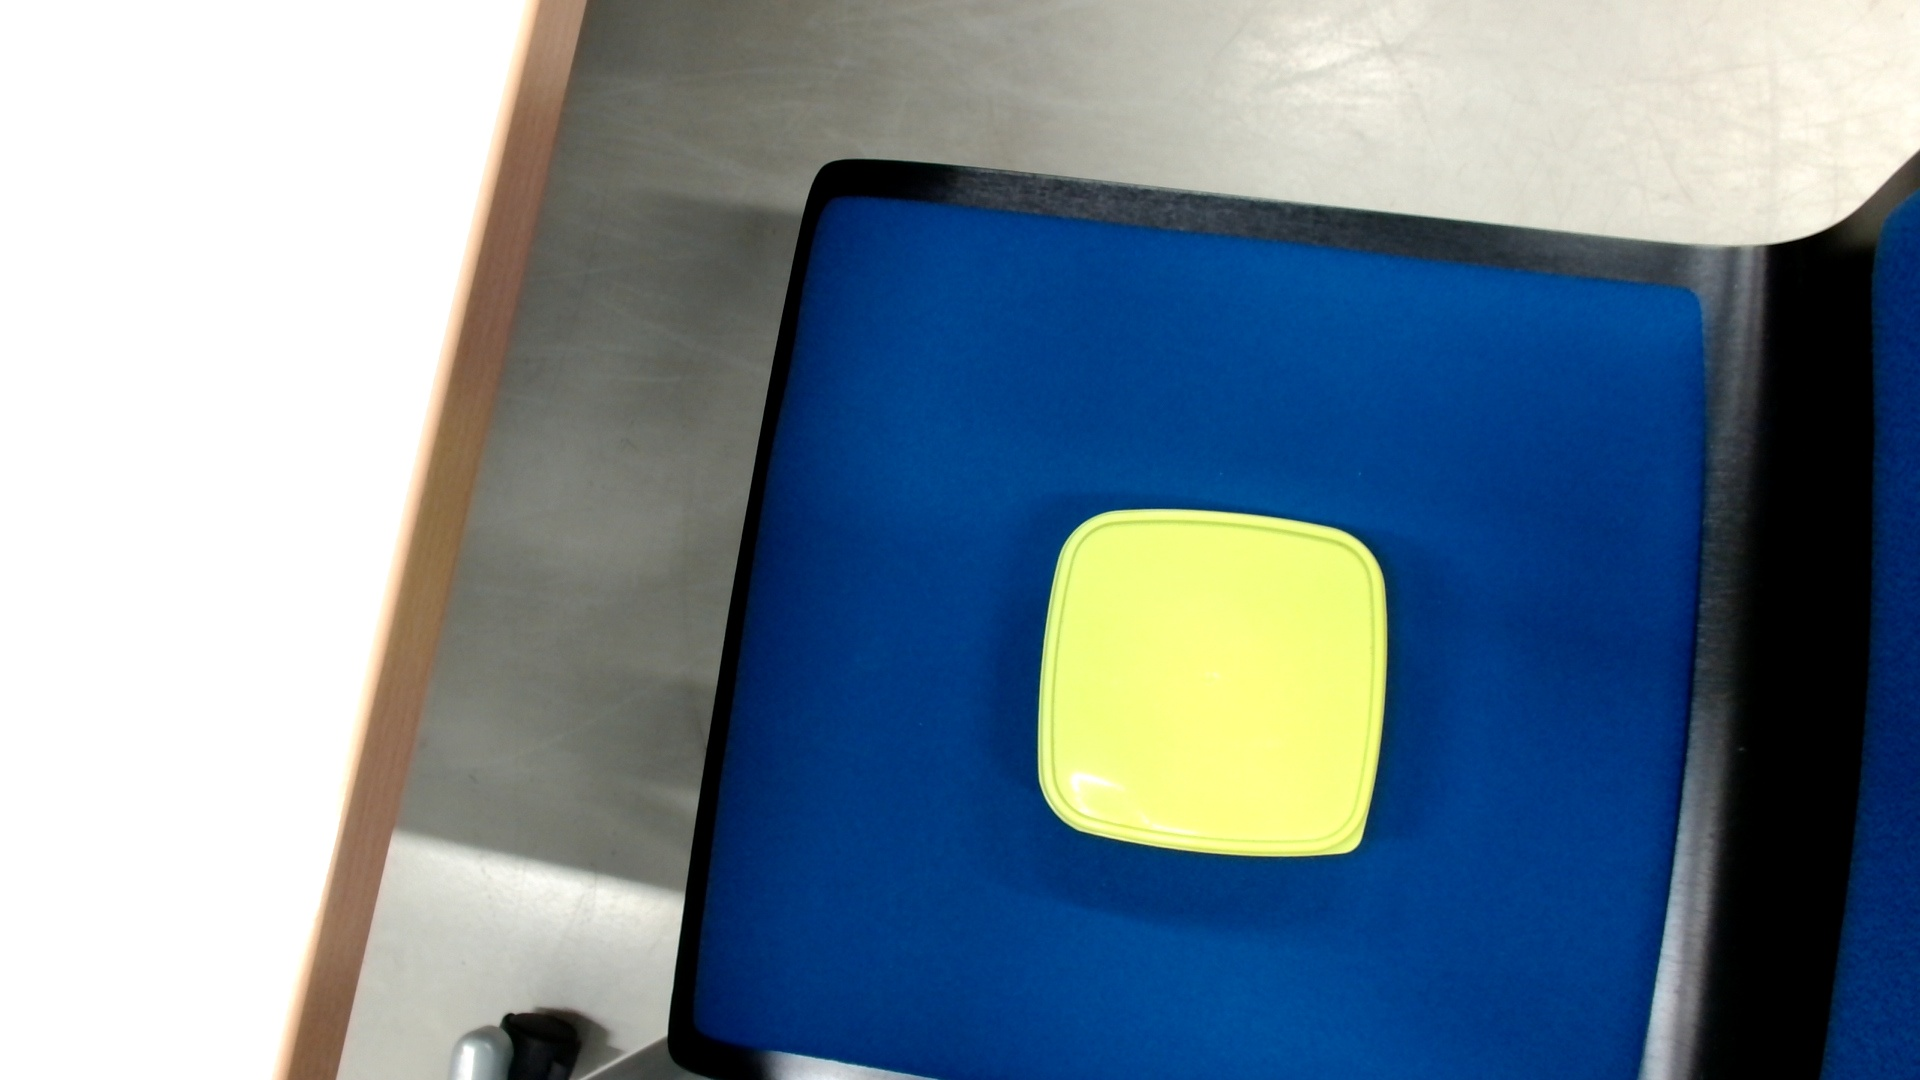Box: (1025, 495, 1402, 868)
